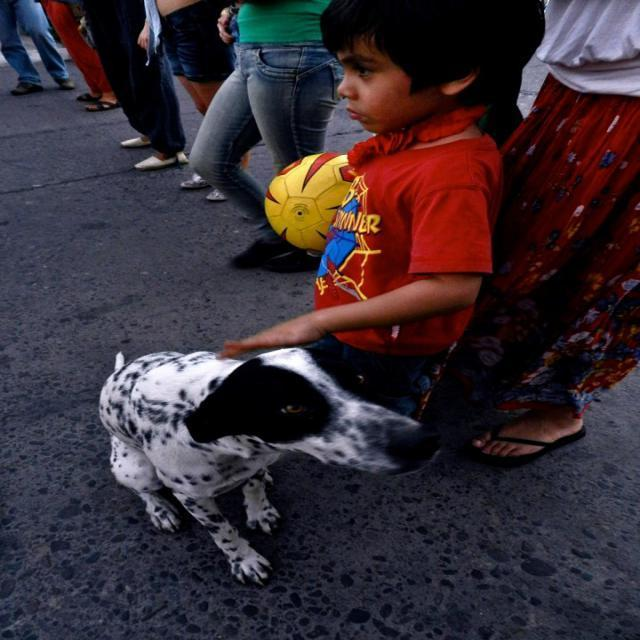football: (256, 131, 368, 258)
